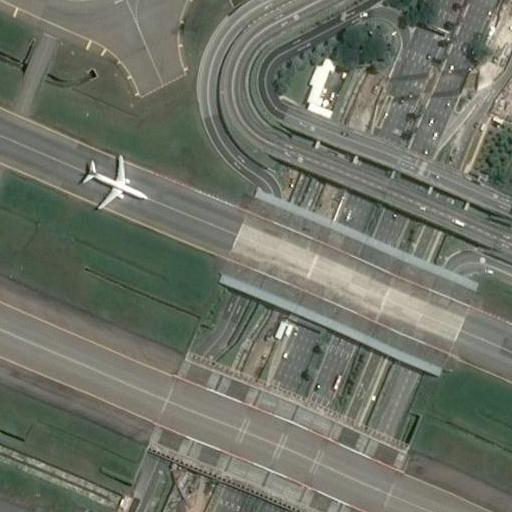Aircraft: (80, 153, 149, 213)
